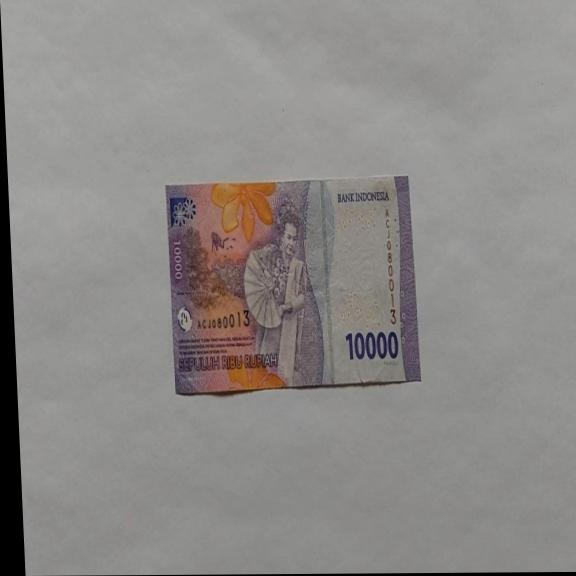Kertas: (164, 174, 422, 396)
